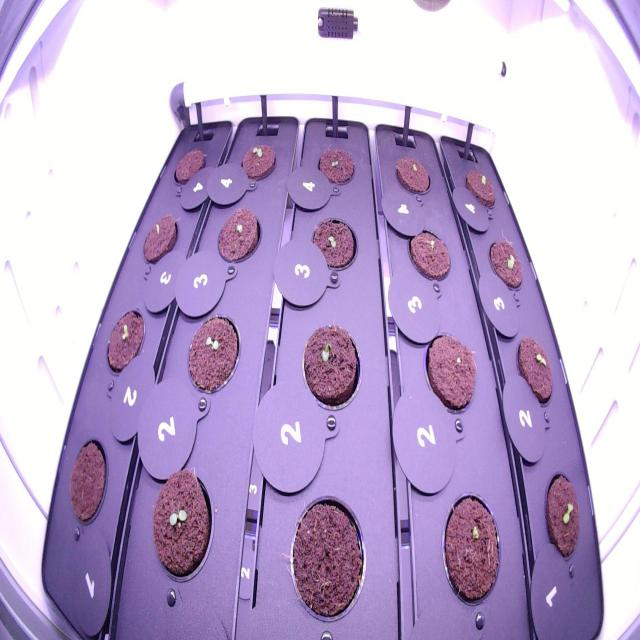germination: (143, 461, 220, 591), (436, 487, 504, 615), (294, 318, 370, 416), (182, 307, 244, 401), (538, 466, 586, 574), (509, 328, 558, 412), (305, 212, 361, 284), (101, 305, 149, 382), (210, 202, 264, 269), (402, 222, 455, 289), (483, 231, 527, 298), (138, 208, 181, 274), (388, 148, 437, 205), (311, 142, 358, 194), (460, 161, 500, 217), (236, 137, 280, 186)
pod: (282, 489, 372, 632), (417, 321, 482, 422), (64, 430, 115, 537), (167, 137, 215, 195)
